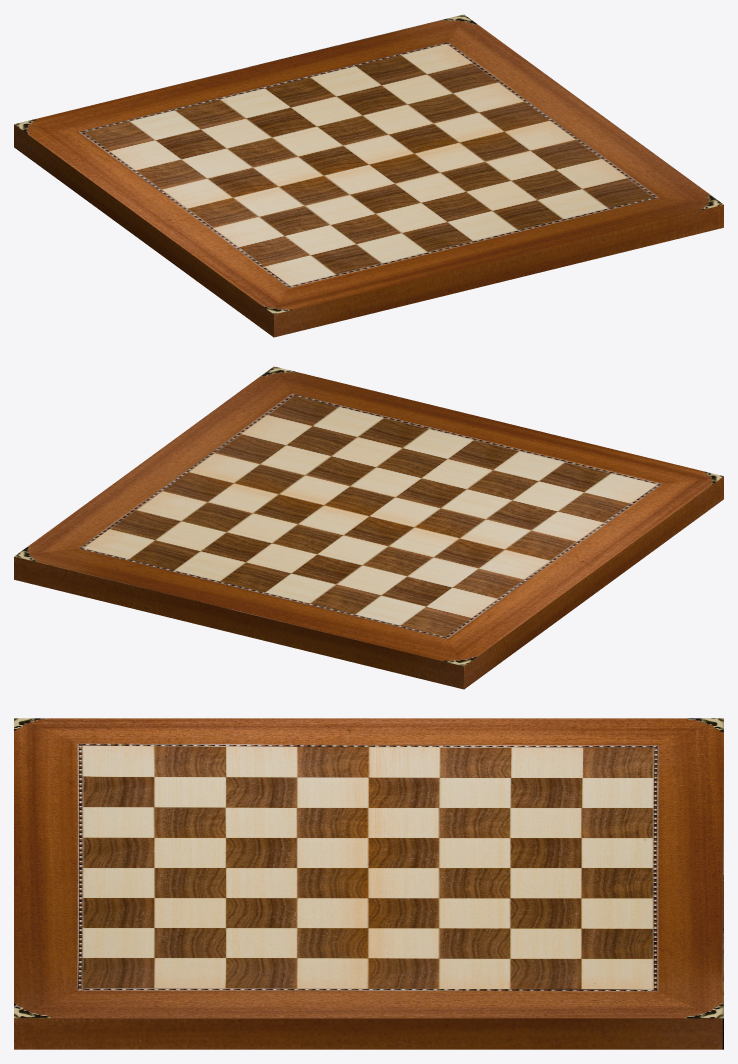
File: Light_Board.fbx
3 renders of one model, top to bottom at view 1: azimuth 30°, elevation 25°; view 2: azimuth 150°, elevation 25°; view 3: azimuth 270°, elevation 25°, orthographic. The views are drawn at different scales.
Visible parts, largest first — view 1: LightBoard; view 2: LightBoard; view 3: LightBoard.
Part boxes in pixels (bbox=[...]): LightBoard: bbox=[14, 14, 723, 337]; LightBoard: bbox=[14, 366, 723, 689]; LightBoard: bbox=[14, 718, 723, 1049].
Bounding box in the file's own units: 96.38 × 4.72 × 96.38.
Materials: 1 (1 with a texture image).
